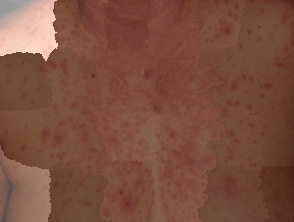SJS-TEN: (60, 0, 258, 222)
